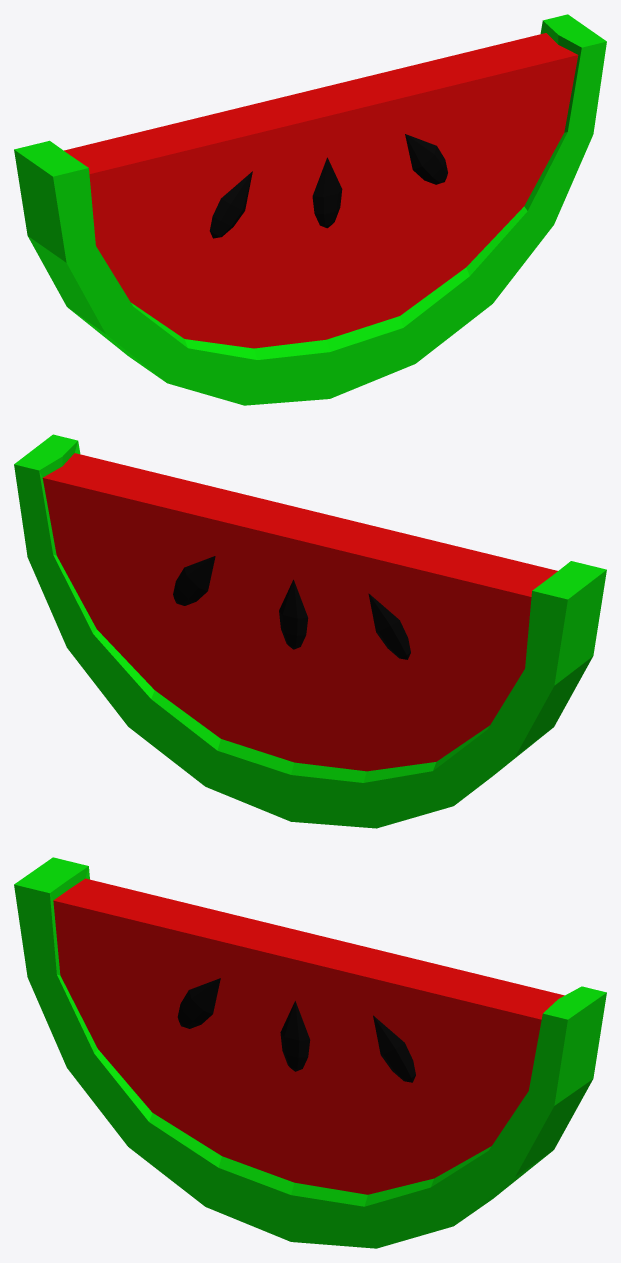
The model's file is Melon_Mesh.fbx.
3 views of the same model, one above another, from view 1: azimuth 30°, elevation 25°; view 2: azimuth 150°, elevation 25°; view 3: azimuth 330°, elevation 25° (orthographic).
Parts seen in each view (by area): view 1: Melon_Mesh; view 2: Melon_Mesh; view 3: Melon_Mesh.
Part boxes in pixels (x1,y1,x2,y2): Melon_Mesh: (14, 14, 606, 405); Melon_Mesh: (14, 434, 606, 828); Melon_Mesh: (14, 857, 606, 1248).
Size of the model in its own units: 6.32 by 3.18 by 0.7734.
